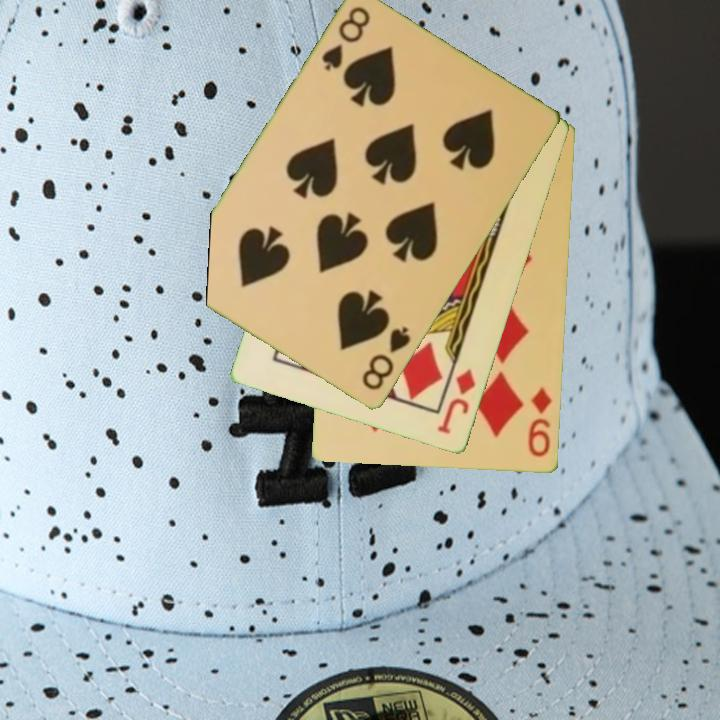8s: (318, 3, 374, 75), (358, 323, 414, 394)
9d: (525, 384, 556, 461)
Jd: (434, 365, 479, 437)
